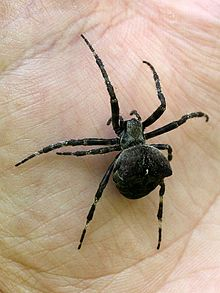spider: (10, 34, 213, 264)
